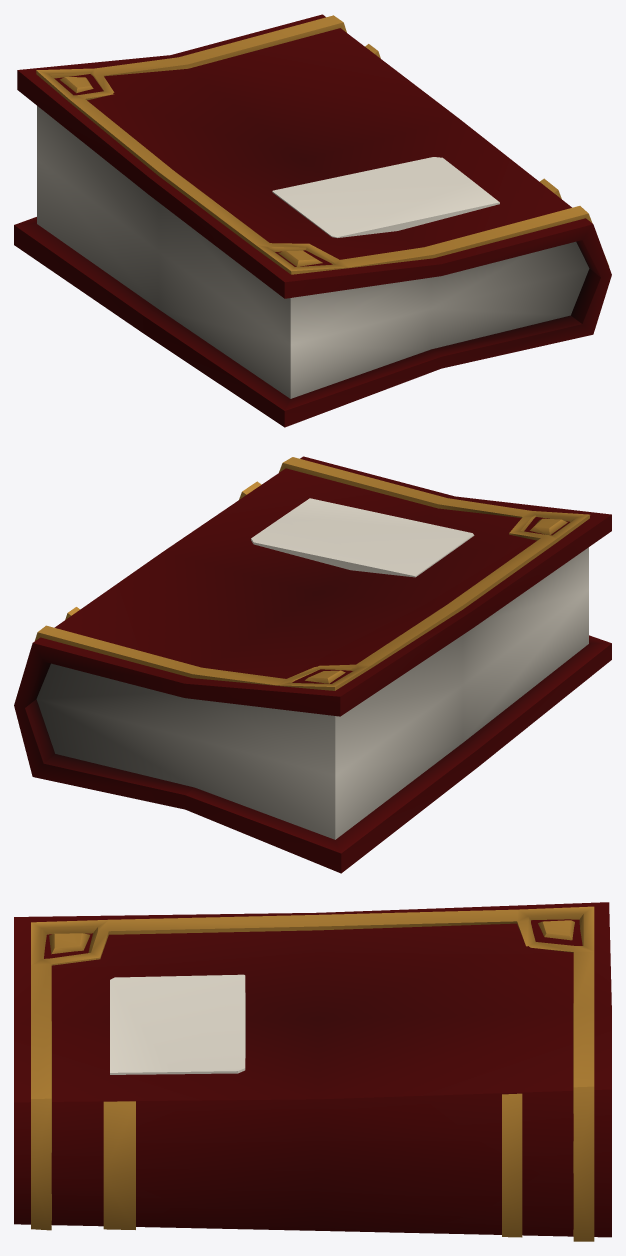
Rendered from obj_bookClosed_B_LOW.FBX.
3 renders of one model, top to bottom at view 1: azimuth 30°, elevation 25°; view 2: azimuth 150°, elevation 25°; view 3: azimuth 270°, elevation 25°, orthographic. The views are drawn at different scales.
Parts seen in each view (by area): view 1: obj_bookClosed_B_LOW; view 2: obj_bookClosed_B_LOW; view 3: obj_bookClosed_B_LOW.
Part boxes in pixels (<box>): obj_bookClosed_B_LOW: <box>14,14,611,427</box>; obj_bookClosed_B_LOW: <box>14,456,611,873</box>; obj_bookClosed_B_LOW: <box>14,902,611,1241</box>.
Size of the model in its own units: 0.8014 by 0.4012 by 1.11.
